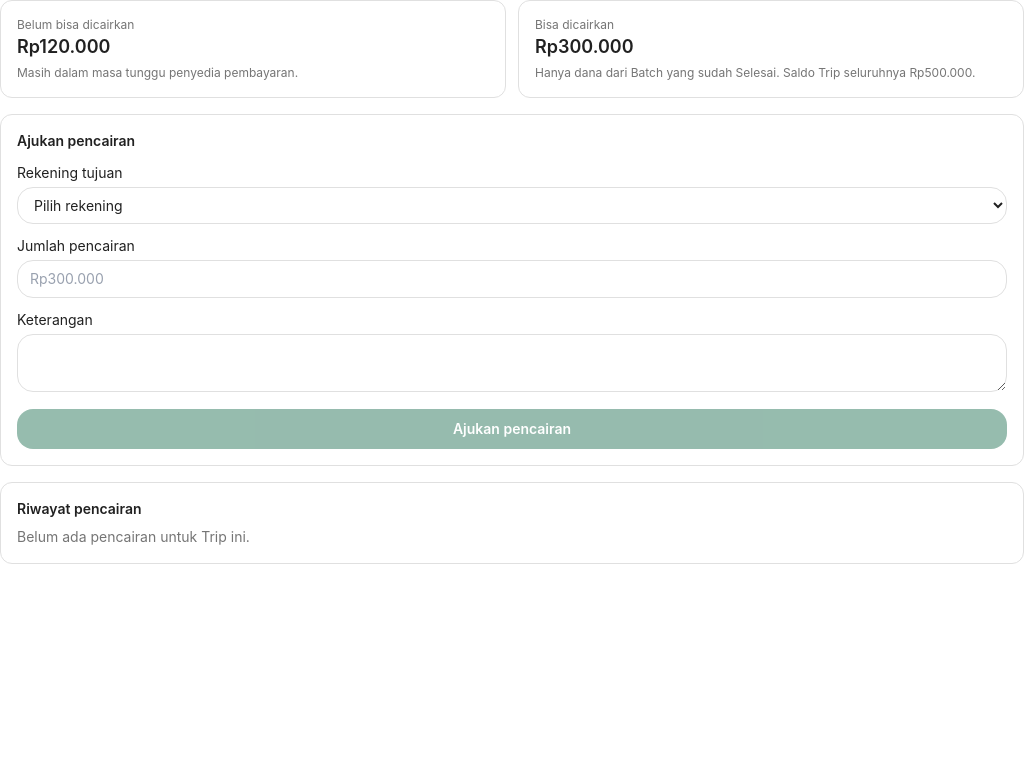
Test: TripPayoutPanel › shows the server domain error as given when funds are not yet from a completed Batch
This screenshot has width=1024, height=768.
Select "BCA - Fundraiser One" in the dropdown labelled "Rekening tujuan": (512, 206) [17,187,1007,224]
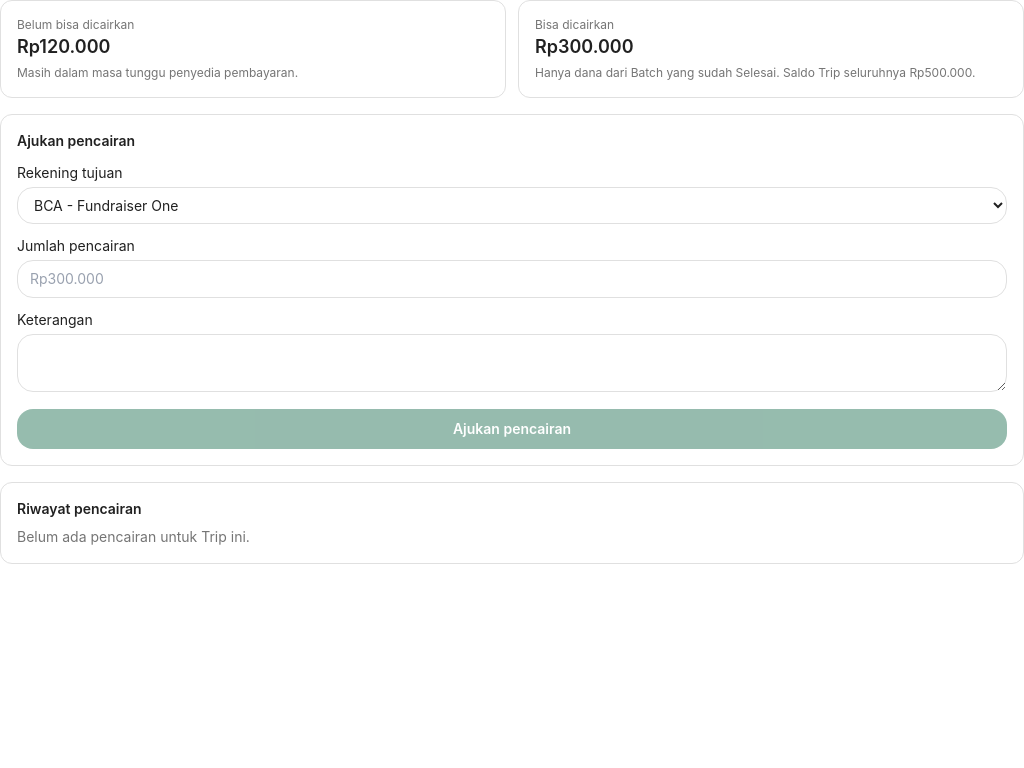
In the field labelled "Jumlah pencairan": (512, 279) [17,260,1007,298], type "100000"
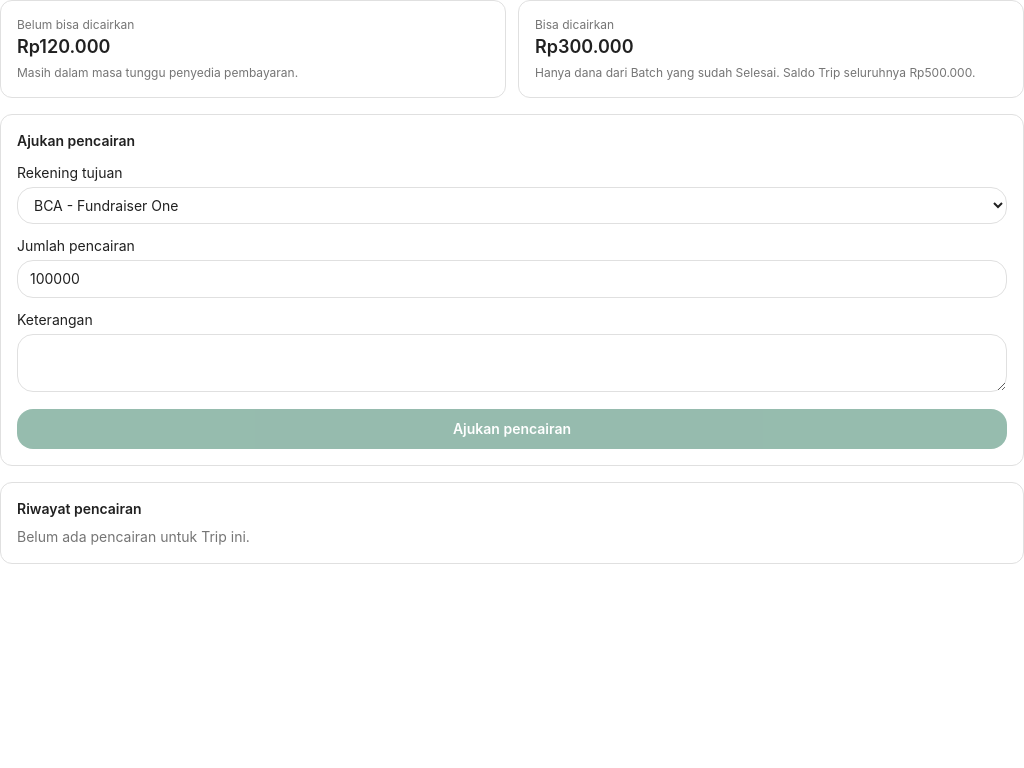
In the text box labelled "Keterangan": (512, 363) [17,334,1007,392], type " Tahap 1 "
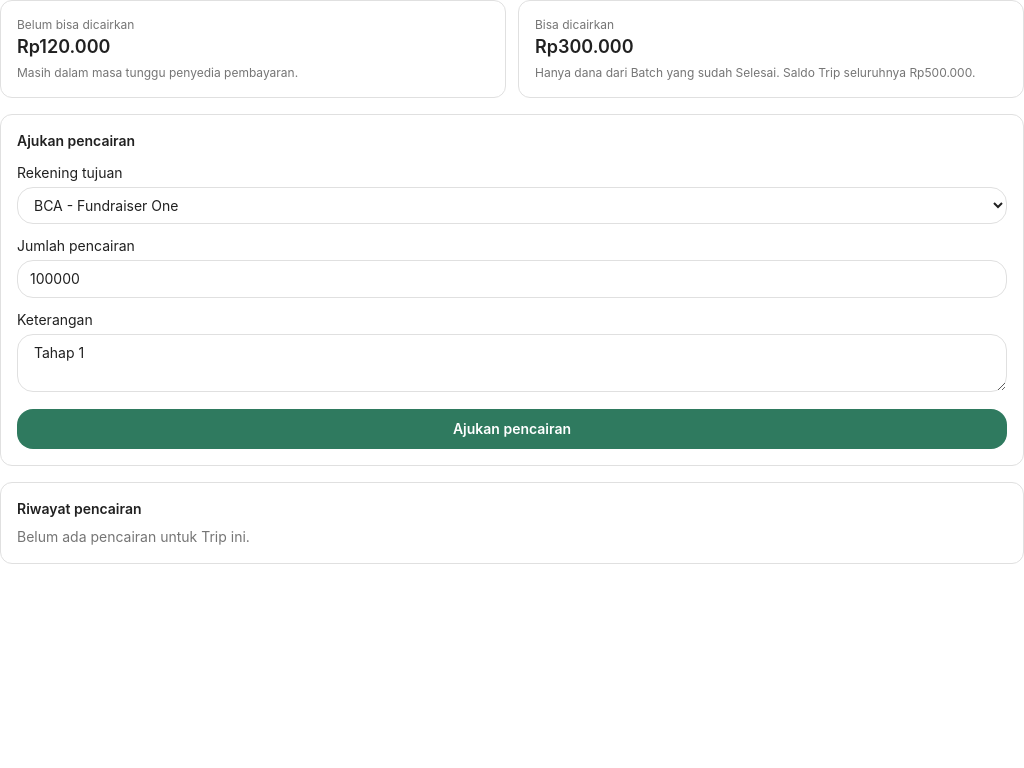
Click the button "Ajukan pencairan": (512, 429) [17,409,1007,449]
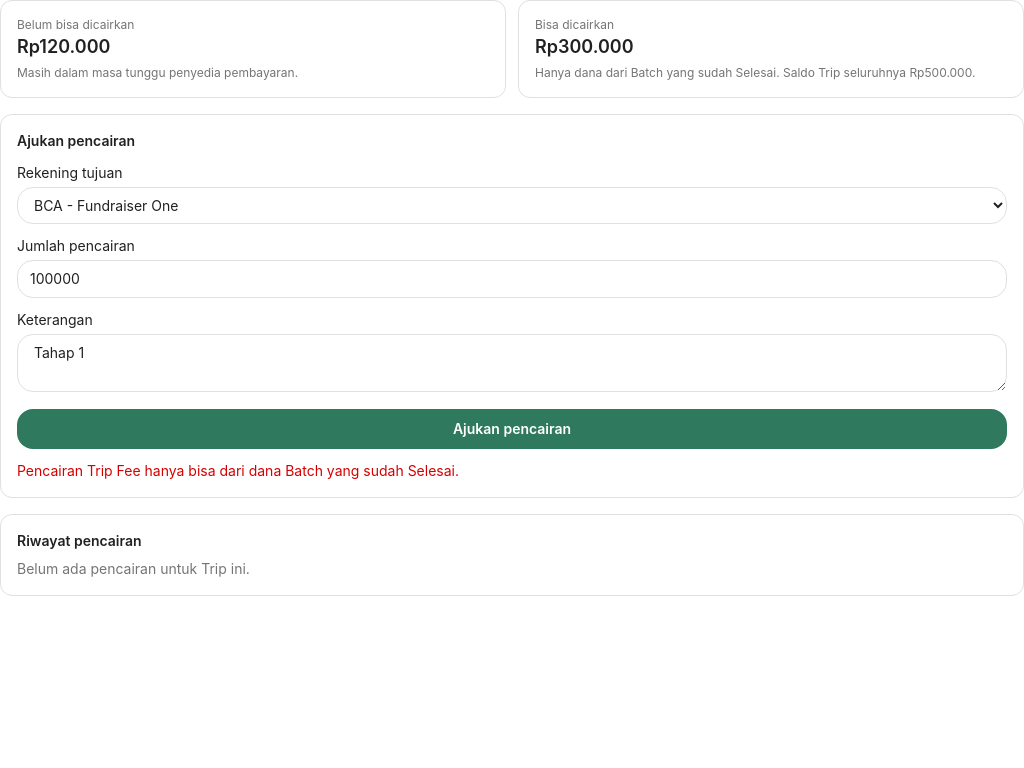
Expected: the text "Pencairan Trip Fee hanya bisa dari dana Batch yang sudah Selesai." is shown, [17,462,459,479]
